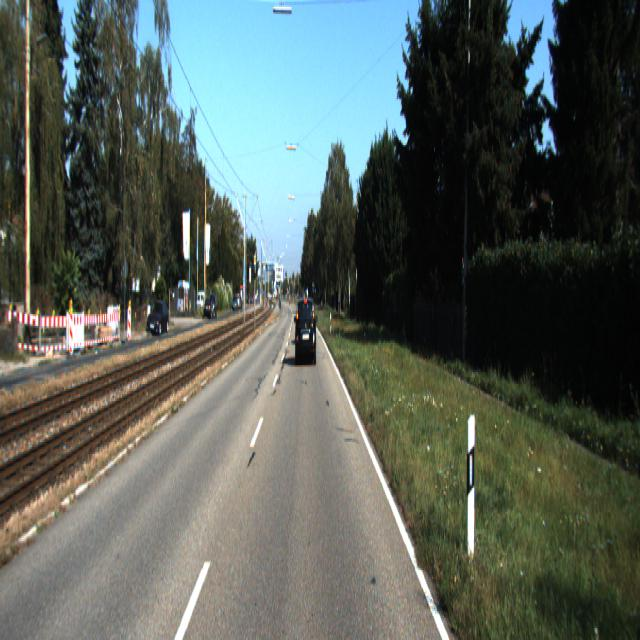Car: (296, 295, 317, 365), (147, 304, 170, 339)
